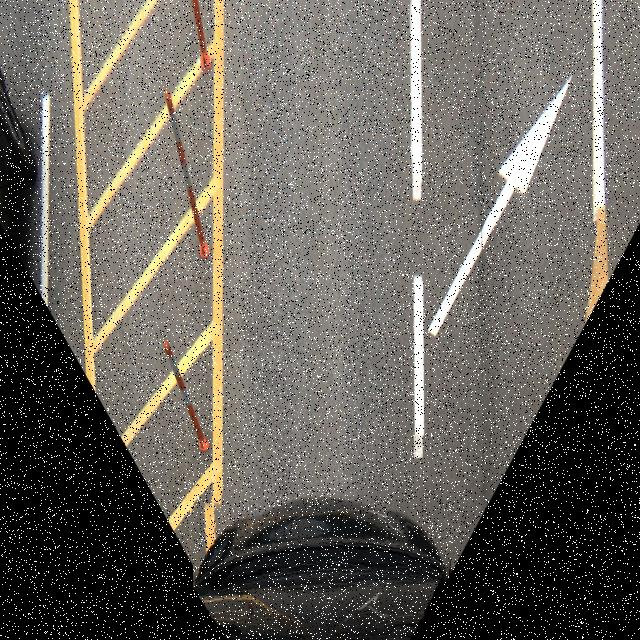yangbo: (193, 485, 454, 640)
